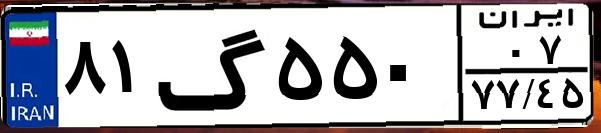0: (385, 28, 445, 110), (508, 27, 537, 80)
1: (110, 28, 156, 98)
4: (535, 70, 560, 125)
5: (270, 28, 330, 110), (330, 28, 385, 110), (560, 70, 590, 125)
7: (537, 27, 568, 80), (470, 70, 495, 125), (495, 70, 520, 125)
8: (57, 26, 110, 100)
گ: (156, 12, 270, 120)
